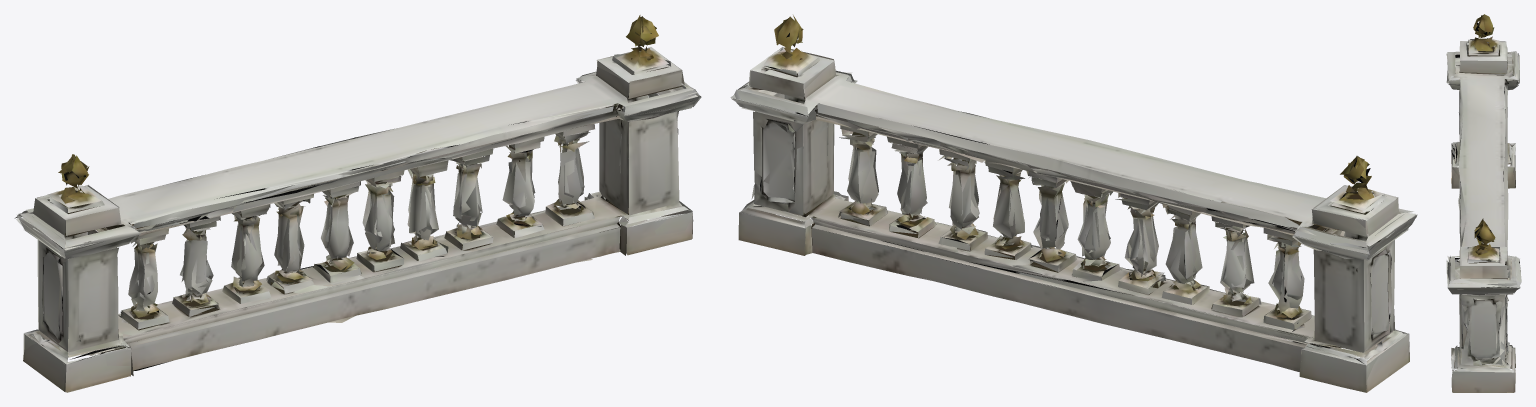
File: town_balustrade.glb
The picture shows the model from 3 angles, left to right: view 1: azimuth 30°, elevation 25°; view 2: azimuth 150°, elevation 25°; view 3: azimuth 270°, elevation 25°; orthographic projection. The views are drawn at different scales.
Visible parts, largest first — view 1: town_balustrade; view 2: town_balustrade; view 3: town_balustrade.
Boxes of the visible parts, x1,y1,x2,y2 form: town_balustrade: [14, 15, 701, 392]; town_balustrade: [730, 15, 1417, 392]; town_balustrade: [1446, 14, 1521, 392].
Bounding box in the file's own units: 3.68 × 1.21 × 0.5026.
1 material, 1 textured.
